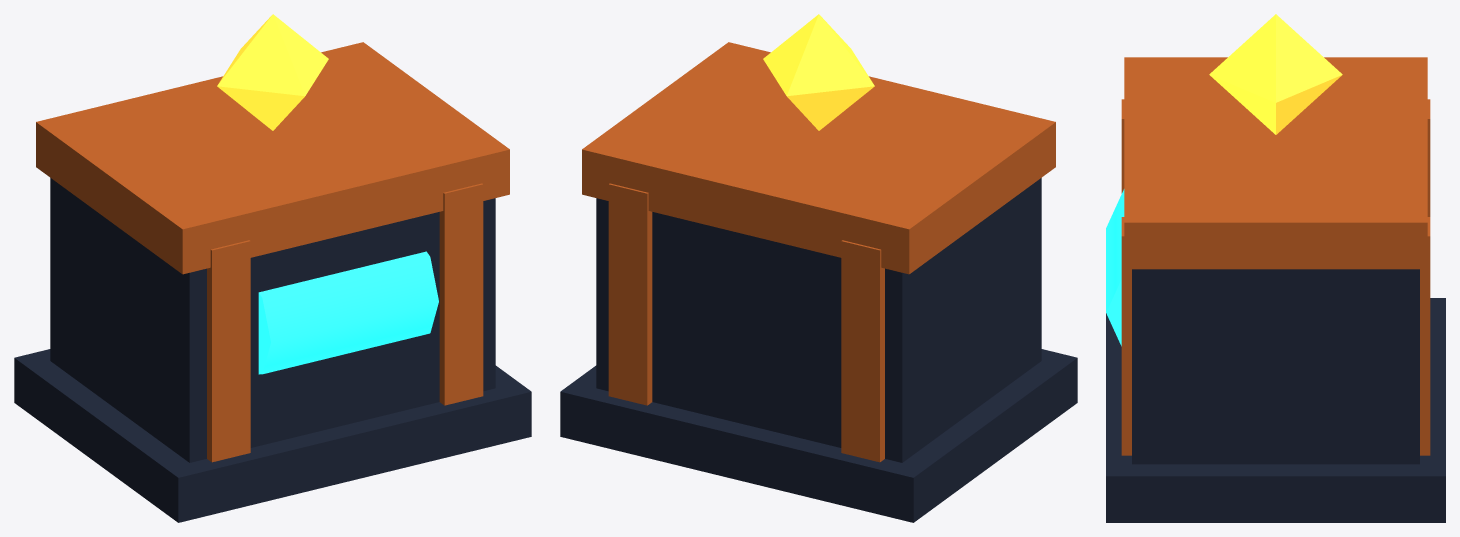
The model's file is prop_datacache.glb.
3 views of the same model, side by side, from view 1: azimuth 30°, elevation 25°; view 2: azimuth 150°, elevation 25°; view 3: azimuth 270°, elevation 25° (orthographic). The views are drawn at different scales.
Parts seen in each view (by area): view 1: top_lid, vault_body, base_plate, core_cell, copper_band_r, copper_band_l, beacon_crystal; view 2: vault_body, top_lid, base_plate, copper_band_r, copper_band_l, beacon_crystal; view 3: top_lid, vault_body, base_plate, beacon_crystal, copper_band_r, core_cell, copper_band_l.
Part boxes in pixels (x1,y1,x2,y2): top_lid: (36, 42, 509, 274); vault_body: (50, 178, 495, 462); base_plate: (14, 349, 531, 522); core_cell: (258, 251, 438, 374); copper_band_r: (439, 183, 483, 405); copper_band_l: (207, 240, 250, 462); beacon_crystal: (217, 14, 328, 130); vault_body: (596, 178, 1041, 462); top_lid: (582, 42, 1055, 274); base_plate: (560, 349, 1077, 522); copper_band_r: (608, 183, 652, 405); copper_band_l: (841, 240, 884, 462); beacon_crystal: (763, 14, 874, 130); top_lid: (1124, 57, 1427, 269); vault_body: (1132, 269, 1419, 464); base_plate: (1106, 298, 1445, 522); beacon_crystal: (1209, 14, 1342, 134); copper_band_r: (1121, 217, 1430, 455); core_cell: (1106, 189, 1124, 346); copper_band_l: (1121, 99, 1430, 216).
Size of the model in its own units: 1.64 by 1.8 by 1.32.
